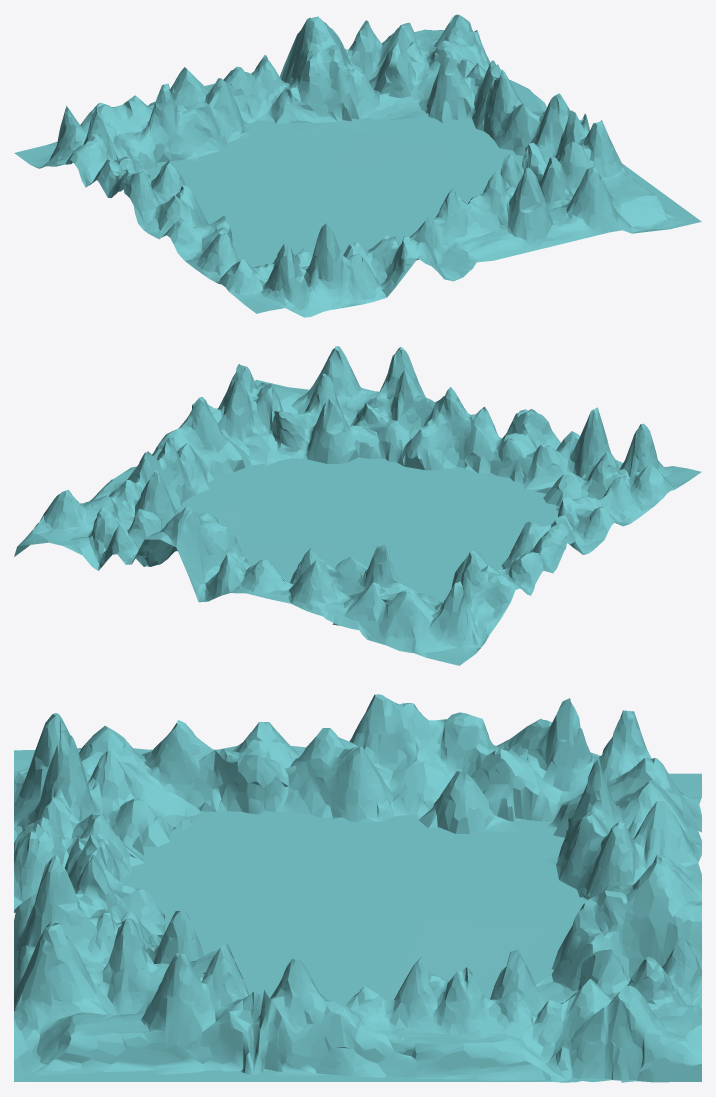
Rendered from montanhas.fbx.
The picture shows the model from 3 angles, top to bottom: view 1: azimuth 30°, elevation 25°; view 2: azimuth 150°, elevation 25°; view 3: azimuth 270°, elevation 25°; orthographic projection. The views are drawn at different scales.
Parts seen in each view (by area): view 1: montanhas; view 2: montanhas; view 3: montanhas.
Part boxes in pixels (<box>): montanhas: <box>14,14,701,317</box>; montanhas: <box>14,346,701,665</box>; montanhas: <box>14,694,701,1082</box>.
Size of the model in its own units: 87.21 by 15.43 by 82.06.
